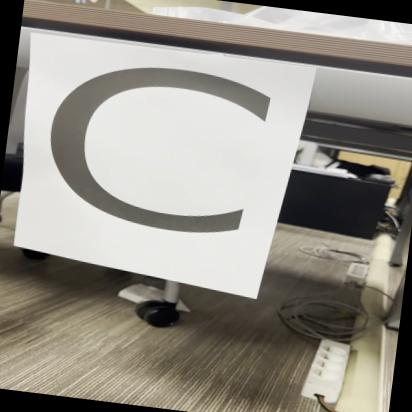seat: (8, 30, 291, 278)
